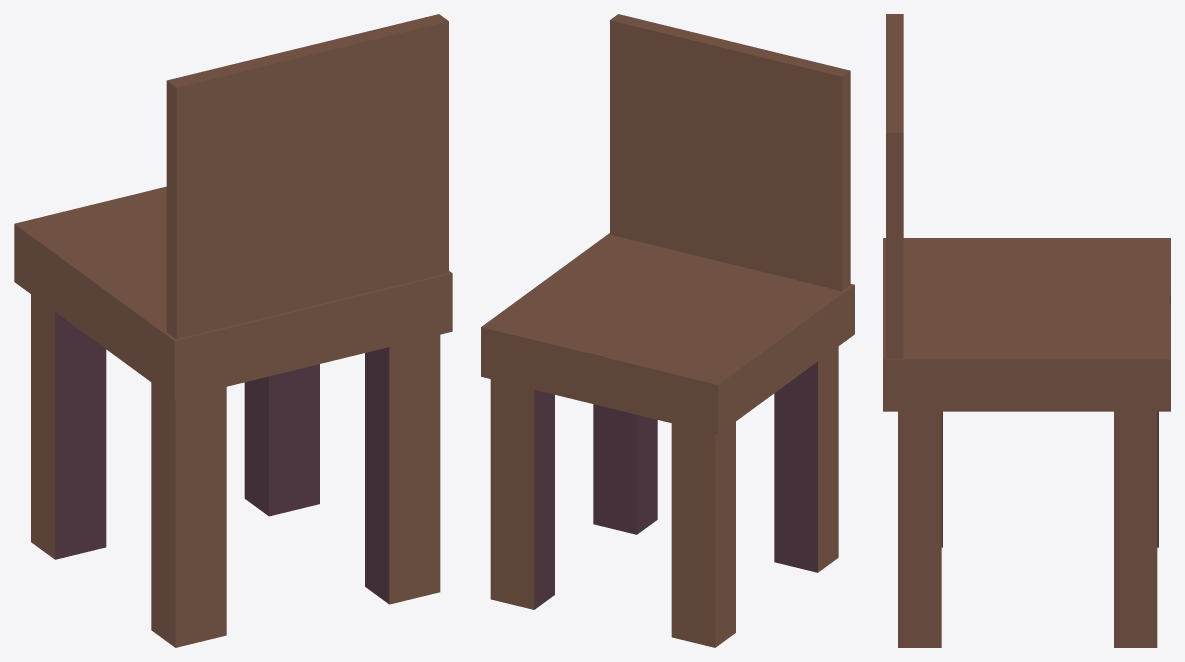
Rendered from SM_cadeira.glb.
3 views of the same model, side by side, from view 1: azimuth 30°, elevation 25°; view 2: azimuth 150°, elevation 25°; view 3: azimuth 270°, elevation 25° (orthographic). The views are drawn at different scales.
Parts seen in each view (by area): view 1: Cube.001; view 2: Cube.001; view 3: Cube.001.
Boxes of the visible parts, x1=… form: Cube.001: x1=14, y1=14, x2=452, y2=647; Cube.001: x1=481, y1=14, x2=854, y2=647; Cube.001: x1=883, y1=14, x2=1170, y2=647.
Size of the model in its own units: 2 by 3.96 by 2.
1 material, 1 textured.
